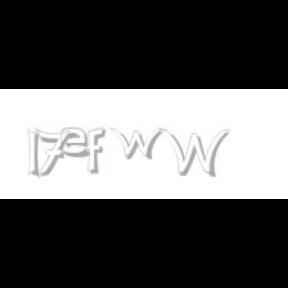7: (35, 128, 72, 178)
W: (158, 128, 230, 178)
e: (62, 128, 94, 158)
f: (85, 128, 109, 174)
l: (27, 128, 43, 180)
w: (109, 128, 168, 160)
